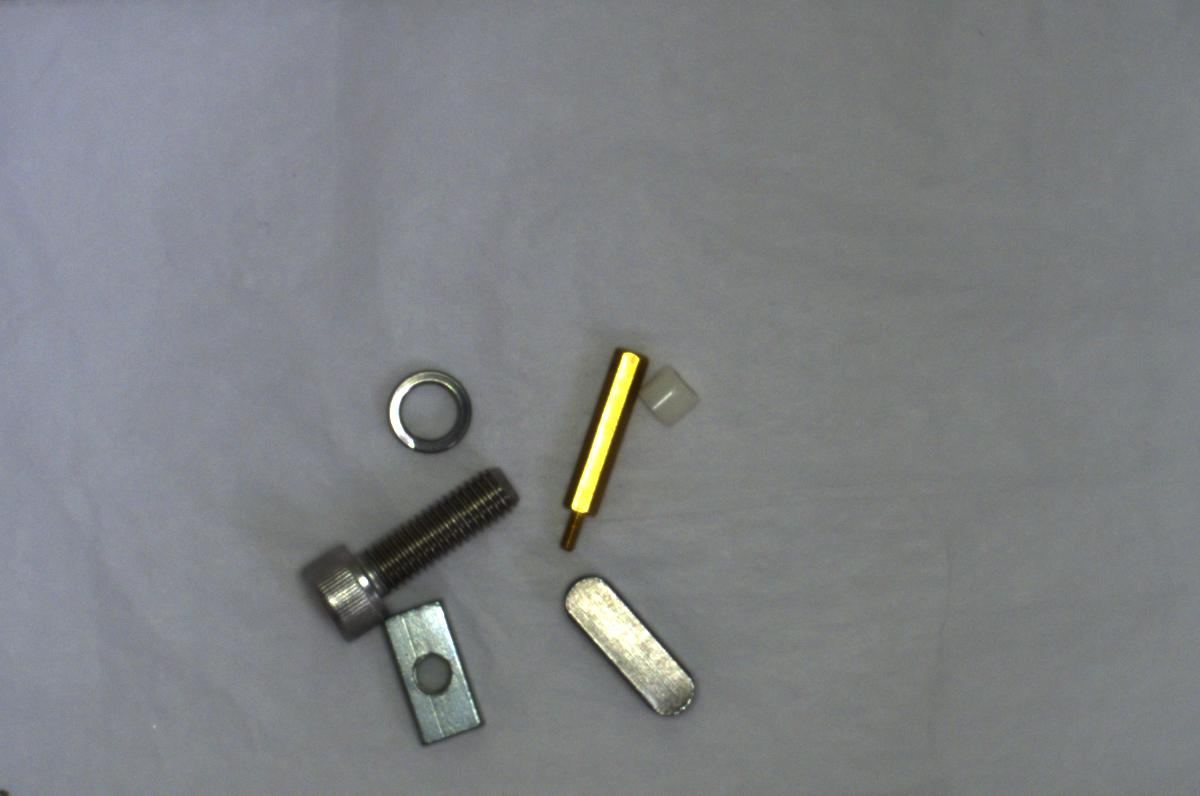Hexagon pillar: (548, 334, 644, 547)
Hexagon screw: (291, 467, 522, 638)
Keybar: (557, 573, 702, 726)
Plastic cushion pillar: (637, 362, 702, 432)
Rectangular nut: (384, 594, 490, 754)
Spring washer: (379, 361, 473, 458)
